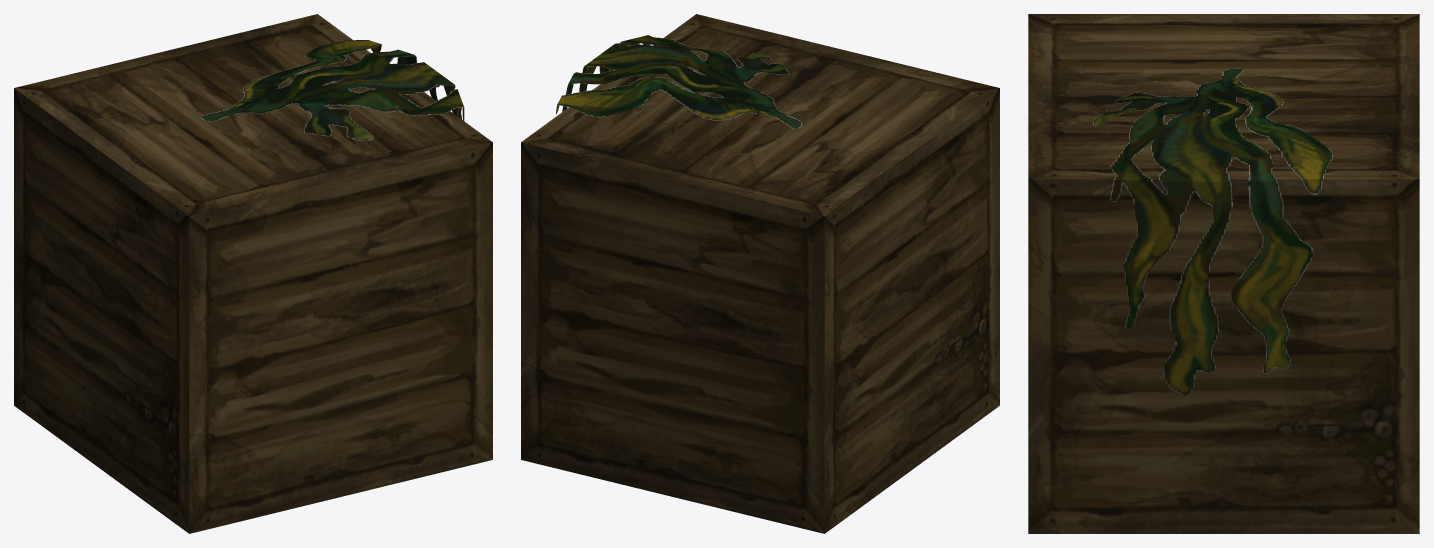
The model's file is Crate05.fbx.
The picture shows the model from 3 angles, left to right: view 1: azimuth 30°, elevation 25°; view 2: azimuth 150°, elevation 25°; view 3: azimuth 270°, elevation 25°; orthographic projection. The views are drawn at different scales.
Visible parts, largest first — view 1: Crate05; view 2: Crate05; view 3: Crate05.
Part boxes in pixels (x1,y1,x2,y2): Crate05: (14,14,492,533); Crate05: (521,14,999,533); Crate05: (1028,14,1419,533).
Size of the model in its own units: 1.25 by 1.2 by 1.11.
Materials: 1 (1 with a texture image).
